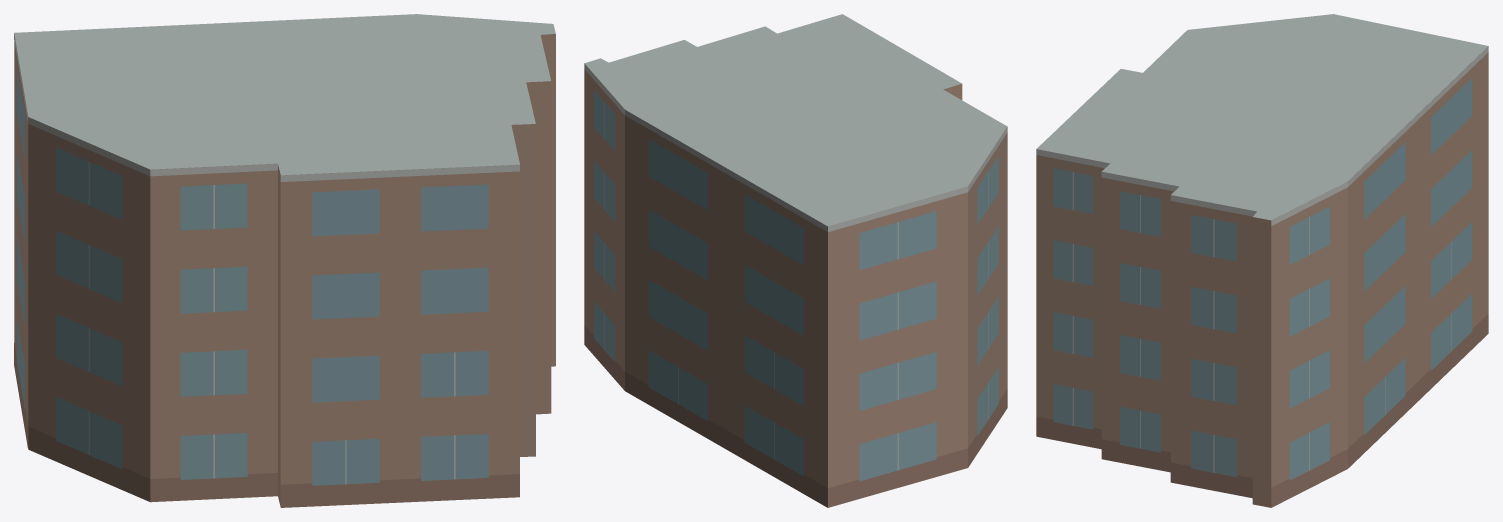
File: survey-upis-32676336.glb
3 renders of one model, left to right at view 1: azimuth 30°, elevation 25°; view 2: azimuth 150°, elevation 25°; view 3: azimuth 270°, elevation 25°, orthographic. The views are drawn at different scales.
Parts seen in each view (by area): view 1: survey-upis-32676336.tmp; view 2: survey-upis-32676336.tmp; view 3: survey-upis-32676336.tmp.
Boxes of the visible parts, x1=… form: survey-upis-32676336.tmp: x1=14, y1=14, x2=555, y2=507; survey-upis-32676336.tmp: x1=584, y1=14, x2=1007, y2=507; survey-upis-32676336.tmp: x1=1036, y1=14, x2=1488, y2=507.
Bounding box in the file's own units: 18.33 × 11.9 × 16.98.
